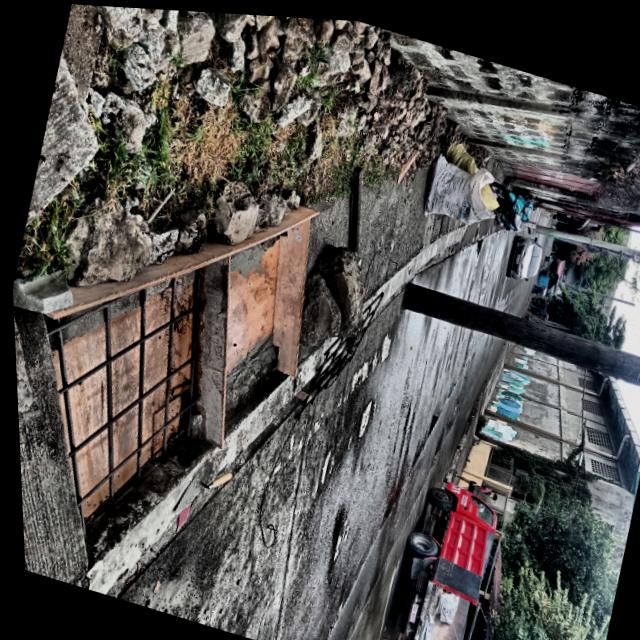open_manhole: (55, 264, 215, 527)
